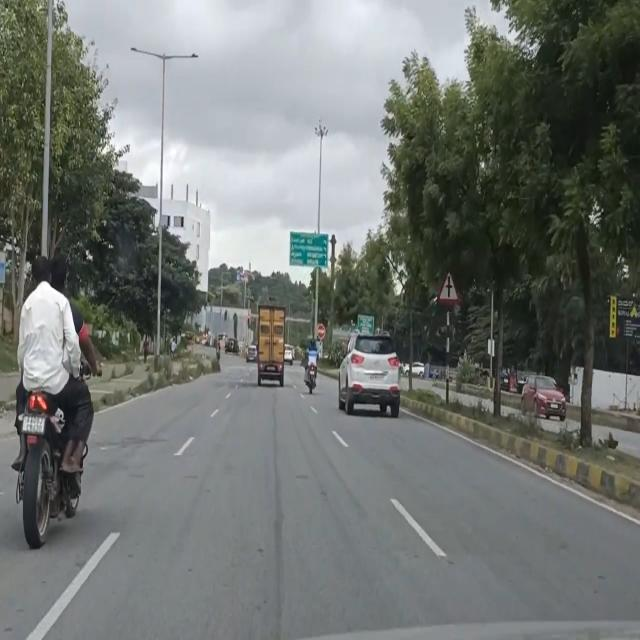bien_cam: (436, 267, 460, 307), (316, 320, 326, 340)
